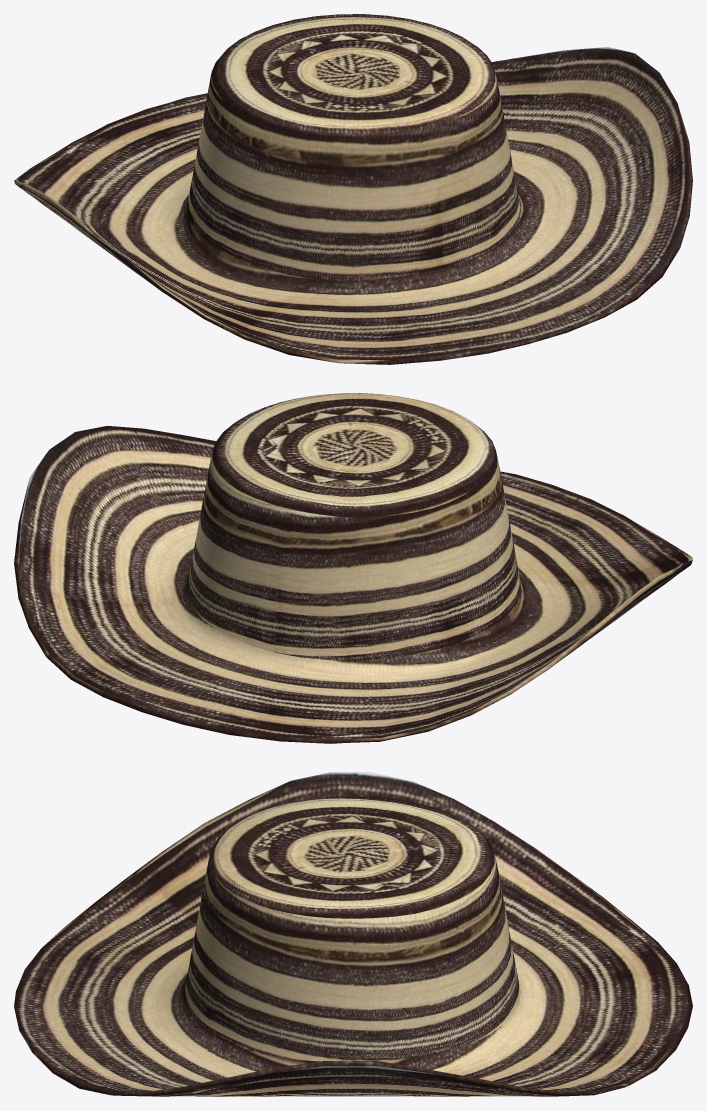
The model's file is sombrero_vueltiao_colombia.glb.
The picture shows the model from 3 angles, top to bottom: view 1: azimuth 30°, elevation 25°; view 2: azimuth 150°, elevation 25°; view 3: azimuth 270°, elevation 25°; orthographic projection.
Visible parts, largest first — view 1: Retopo_Sombrero_Vueltiao[1]; view 2: Retopo_Sombrero_Vueltiao[1]; view 3: Retopo_Sombrero_Vueltiao[1].
Boxes of the visible parts, x1,y1,x2,y2 form: Retopo_Sombrero_Vueltiao[1]: [14, 14, 692, 364]; Retopo_Sombrero_Vueltiao[1]: [14, 393, 692, 743]; Retopo_Sombrero_Vueltiao[1]: [14, 772, 692, 1096].
Bounding box in the file's own units: 0.4888 × 0.1217 × 0.4861.
1 material, 1 textured.
